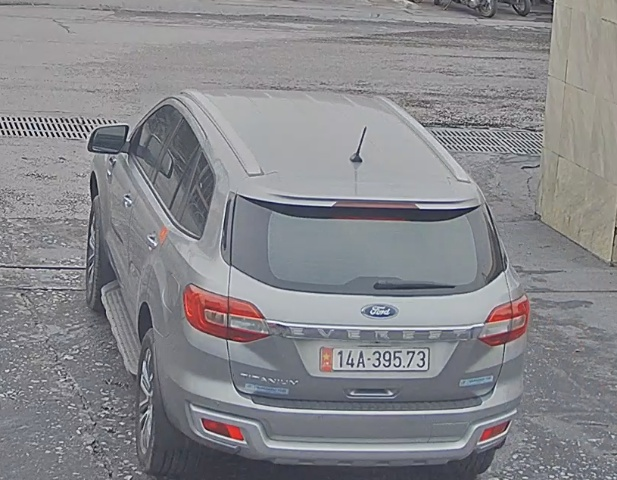vehicle plate: (321, 341, 432, 374)
